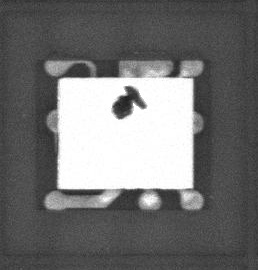DIE_INK: (106, 89, 140, 126)
